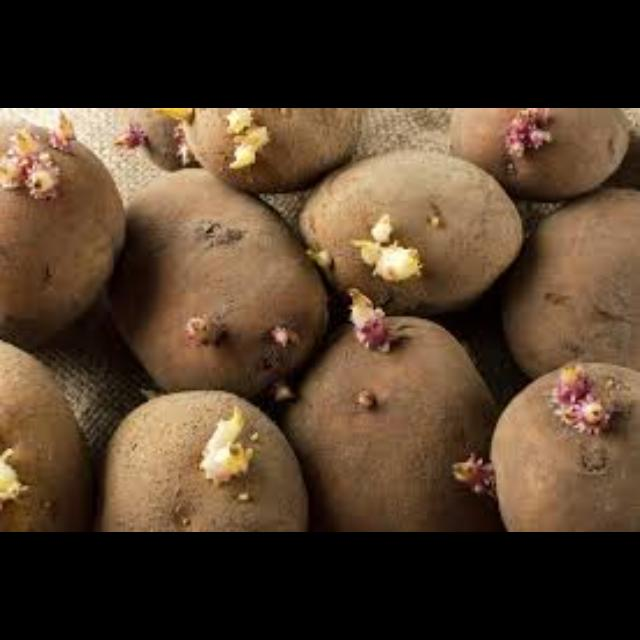Sprouted potato: (120, 168, 338, 410), (283, 304, 511, 532), (302, 145, 528, 315), (452, 348, 640, 532), (95, 390, 318, 532), (0, 109, 128, 338), (2, 343, 112, 532), (446, 108, 632, 204), (166, 110, 366, 192), (114, 112, 194, 176)
